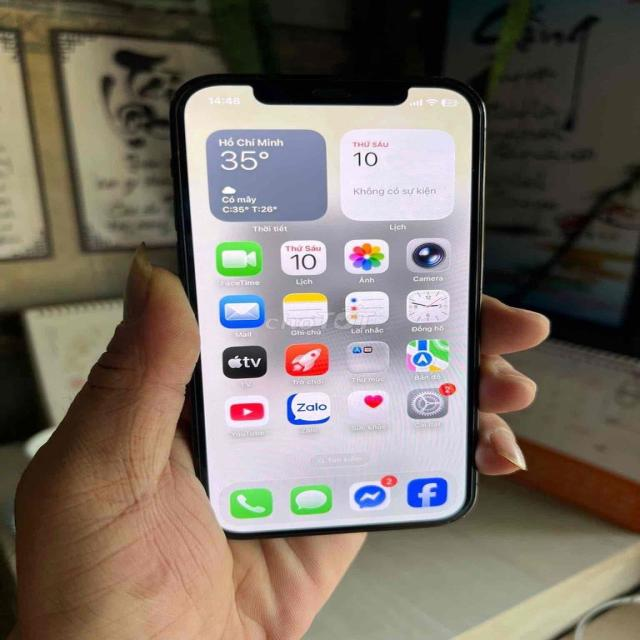gen_12_13: (163, 63, 503, 552)
